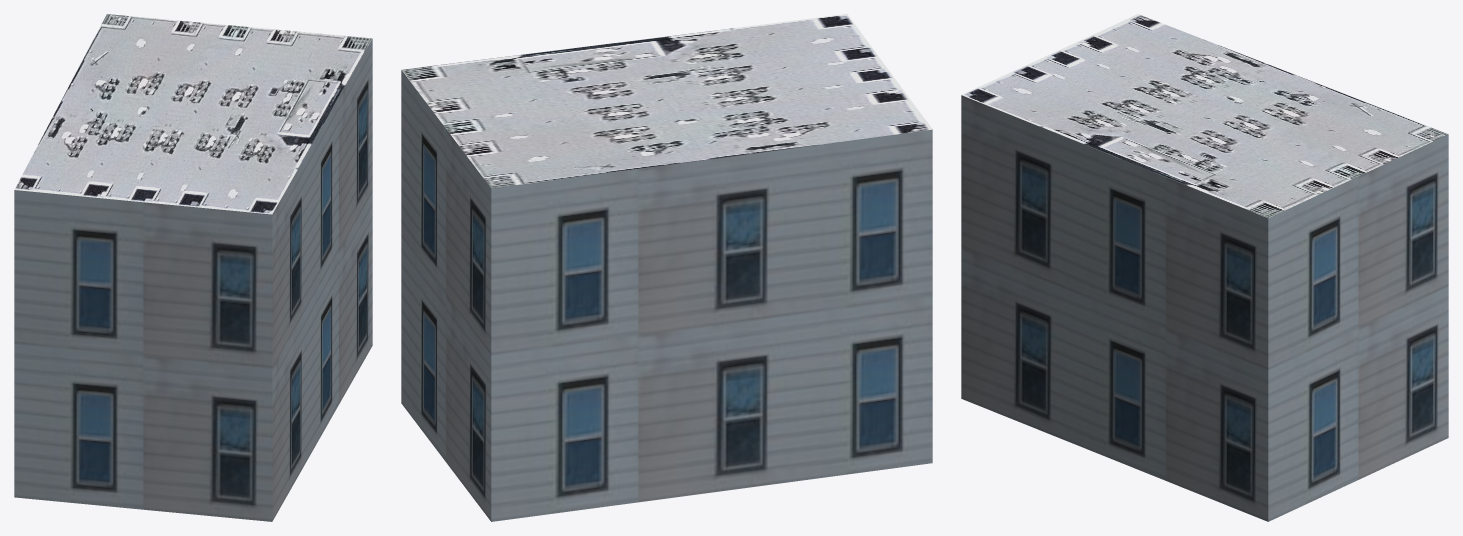
The model's file is ResTex__1554.fbx.
3 views of the same model, side by side, from view 1: azimuth 30°, elevation 25°; view 2: azimuth 150°, elevation 25°; view 3: azimuth 270°, elevation 25° (orthographic). The views are drawn at different scales.
Parts seen in each view (by area): view 1: CityEngineMaterial_18_m, CityEngineMaterial_8_m; view 2: CityEngineMaterial_18_m, CityEngineMaterial_8_m; view 3: CityEngineMaterial_18_m, CityEngineMaterial_8_m.
Part boxes in pixels (x1,y1,x2,y2): CityEngineMaterial_18_m: [14, 39, 372, 521]; CityEngineMaterial_8_m: [14, 14, 372, 214]; CityEngineMaterial_18_m: [401, 70, 932, 521]; CityEngineMaterial_8_m: [401, 14, 932, 188]; CityEngineMaterial_18_m: [961, 95, 1448, 521]; CityEngineMaterial_8_m: [961, 14, 1448, 218].
Size of the model in its own units: 8.66 by 6 by 8.73.
2 materials, 2 textured.
